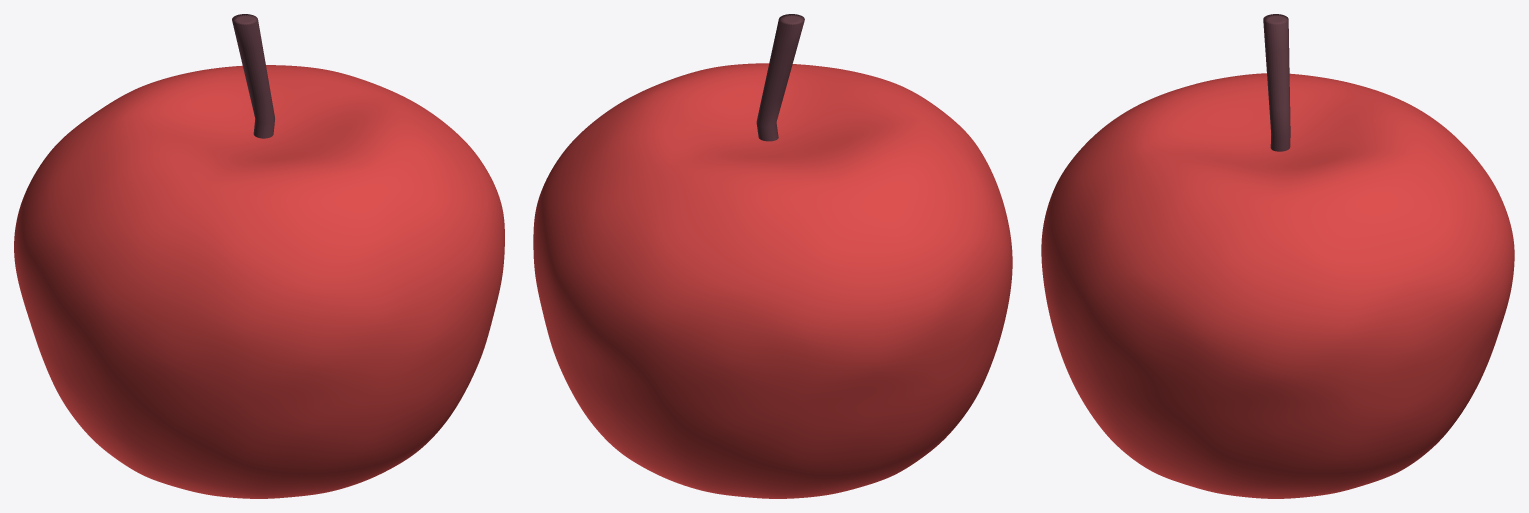
File: apple.glb
3 views of the same model, side by side, from view 1: azimuth 30°, elevation 25°; view 2: azimuth 150°, elevation 25°; view 3: azimuth 270°, elevation 25° (orthographic). The views are drawn at different scales.
Parts seen in each view (by area): view 1: Icosphere, Cylinder; view 2: Icosphere, Cylinder; view 3: Icosphere, Cylinder.
Boxes of the visible parts, bbox=[...] form: Icosphere: bbox=[14, 65, 504, 498]; Cylinder: bbox=[232, 14, 274, 138]; Icosphere: bbox=[533, 63, 1012, 498]; Cylinder: bbox=[756, 14, 804, 141]; Icosphere: bbox=[1041, 73, 1514, 498]; Cylinder: bbox=[1263, 14, 1290, 151].
Size of the model in its own units: 1.96 by 1.92 by 1.95.
